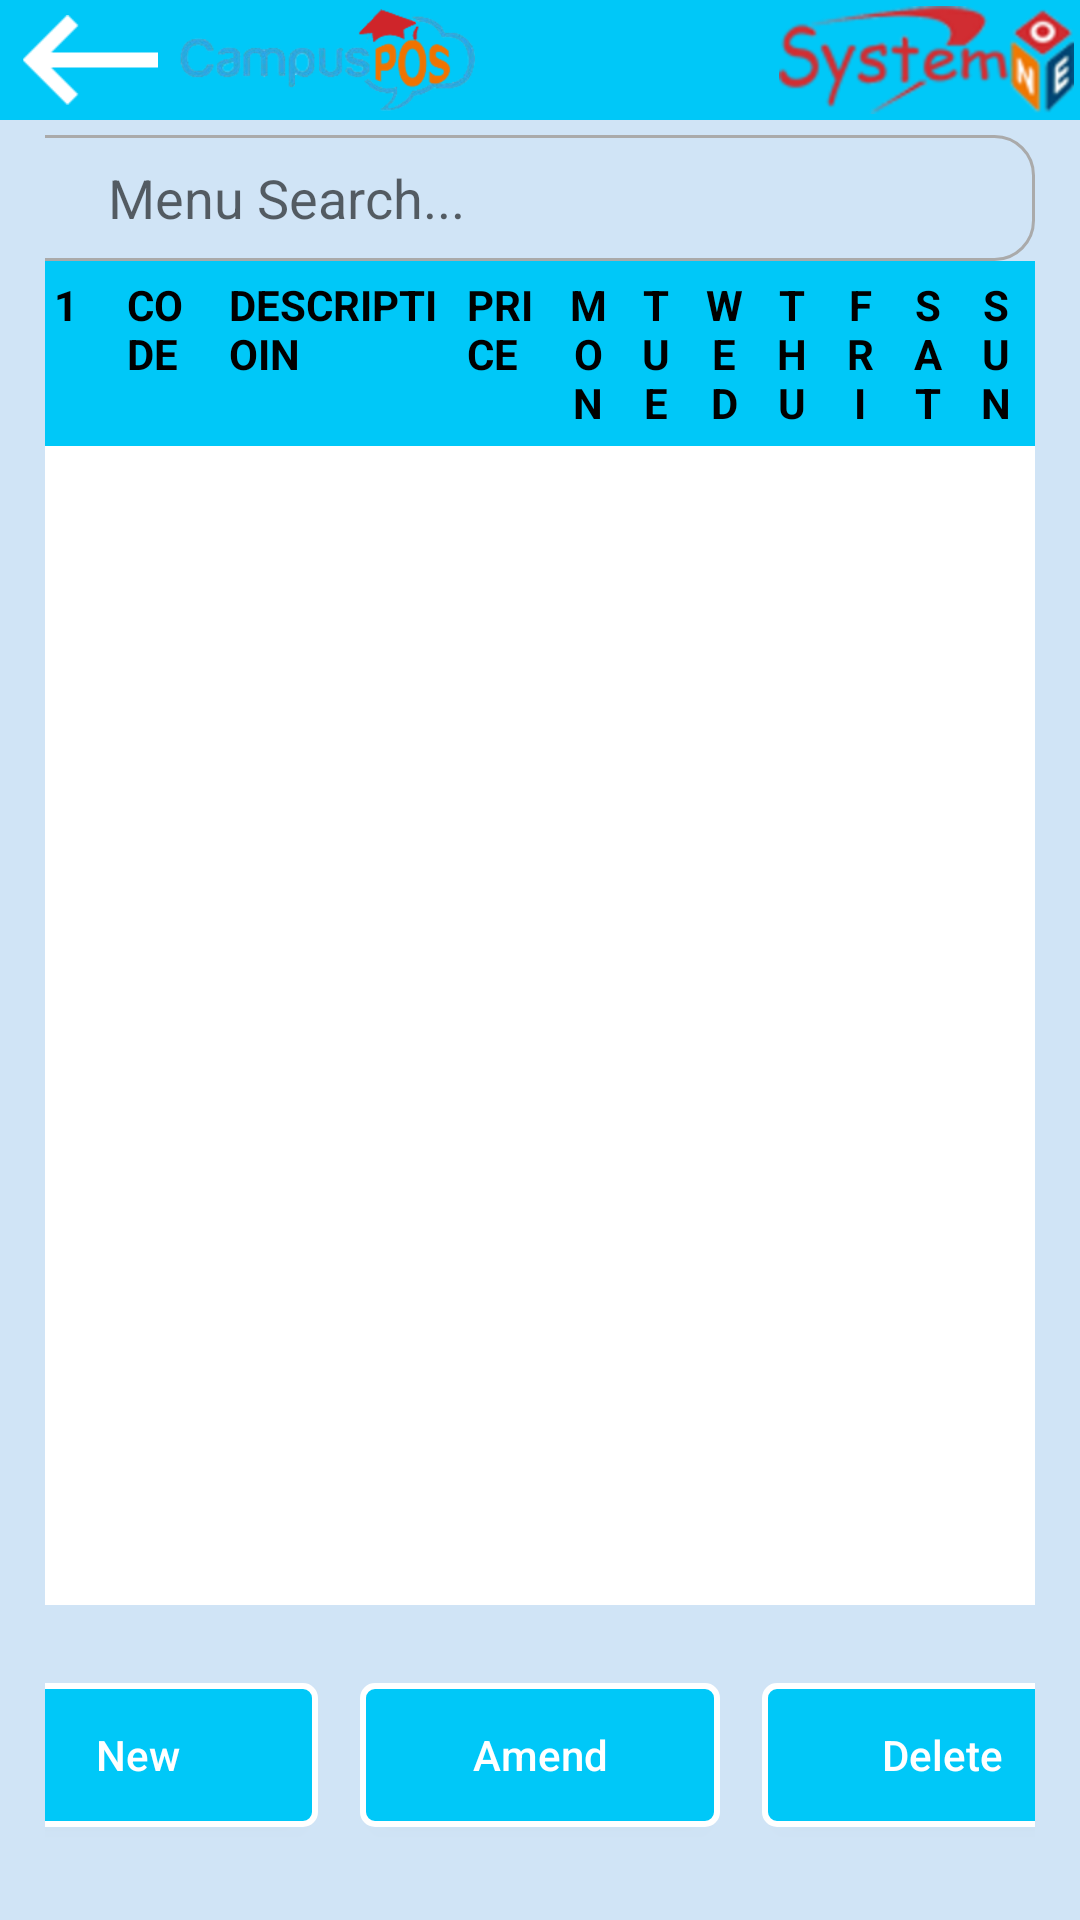

Where icons sit on this 1080 x 1920 app screen, as (x1, y1, x2, y2):
back: (23, 15, 158, 105)
